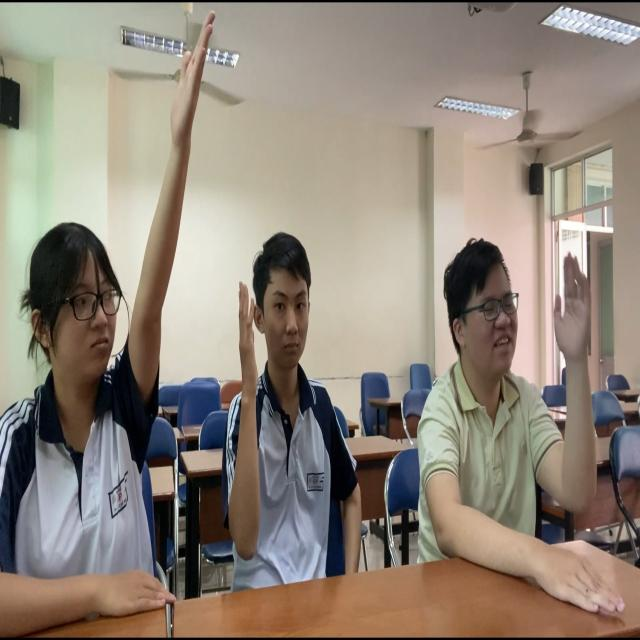raise_hand: (1, 1, 220, 606), (395, 223, 640, 616), (225, 229, 377, 575)
